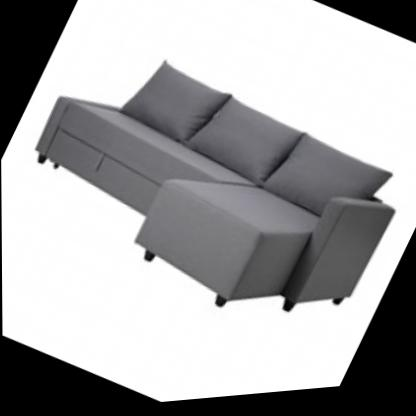Sofa: (0, 0, 416, 385)
